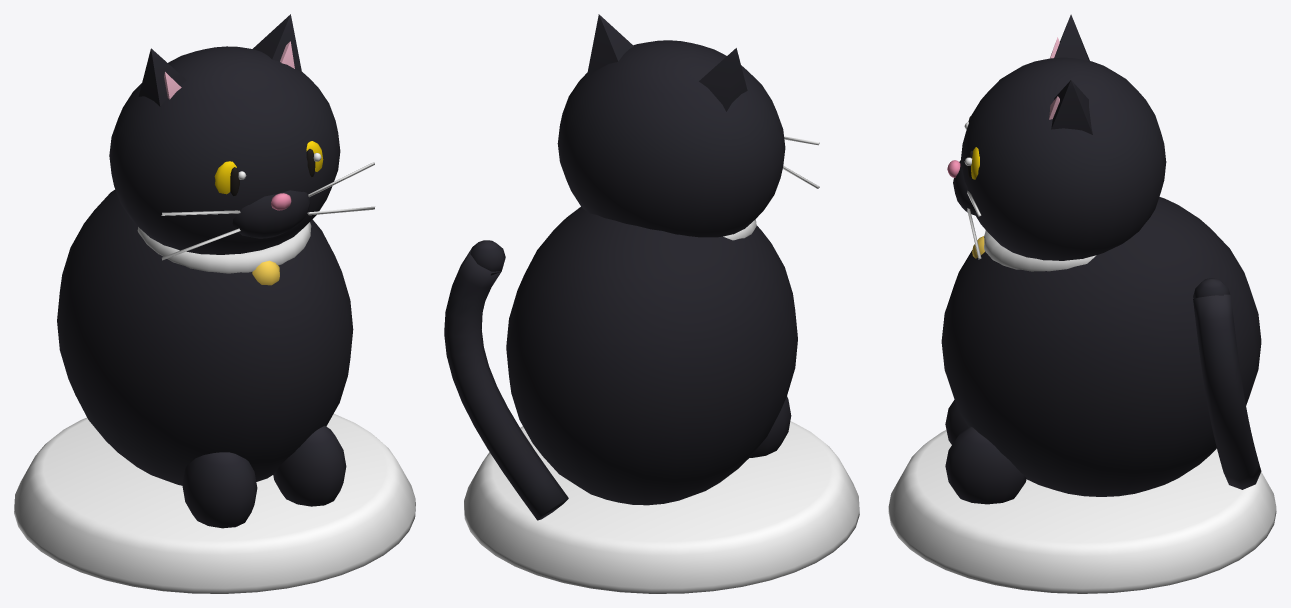
File: gatonegro-HHkBFvLz.glb
3 views of the same model, side by side, from view 1: azimuth 30°, elevation 25°; view 2: azimuth 150°, elevation 25°; view 3: azimuth 270°, elevation 25° (orthographic). The views are drawn at different scales.
Parts seen in each view (by area): view 1: Body, Tint; view 2: Body, Tint; view 3: Body, Tint.
Part boxes in pixels (bbox=[...]): Body: bbox=[57, 14, 375, 528]; Tint: bbox=[14, 222, 415, 593]; Body: bbox=[444, 14, 819, 520]; Tint: bbox=[464, 219, 859, 593]; Body: bbox=[941, 14, 1261, 504]; Tint: bbox=[888, 230, 1276, 593].
Size of the model in its own units: 1.02 by 1.35 by 1.02.
Materials: 2 (2 with a texture image).
